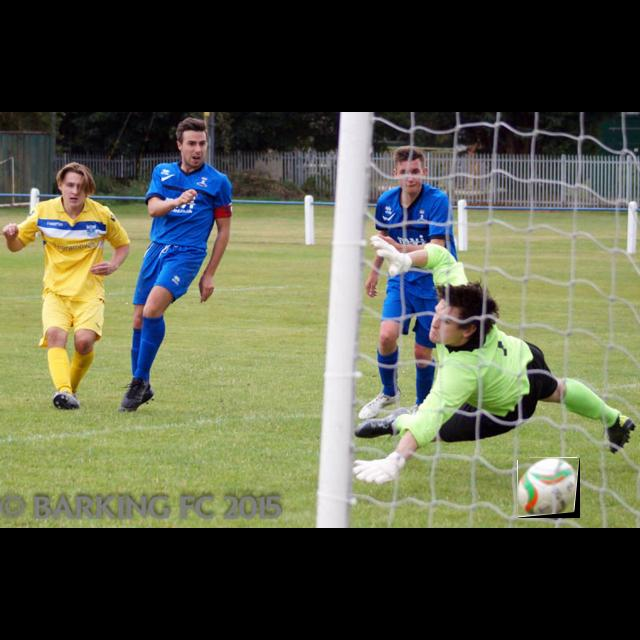Football: (518, 458, 580, 518)
